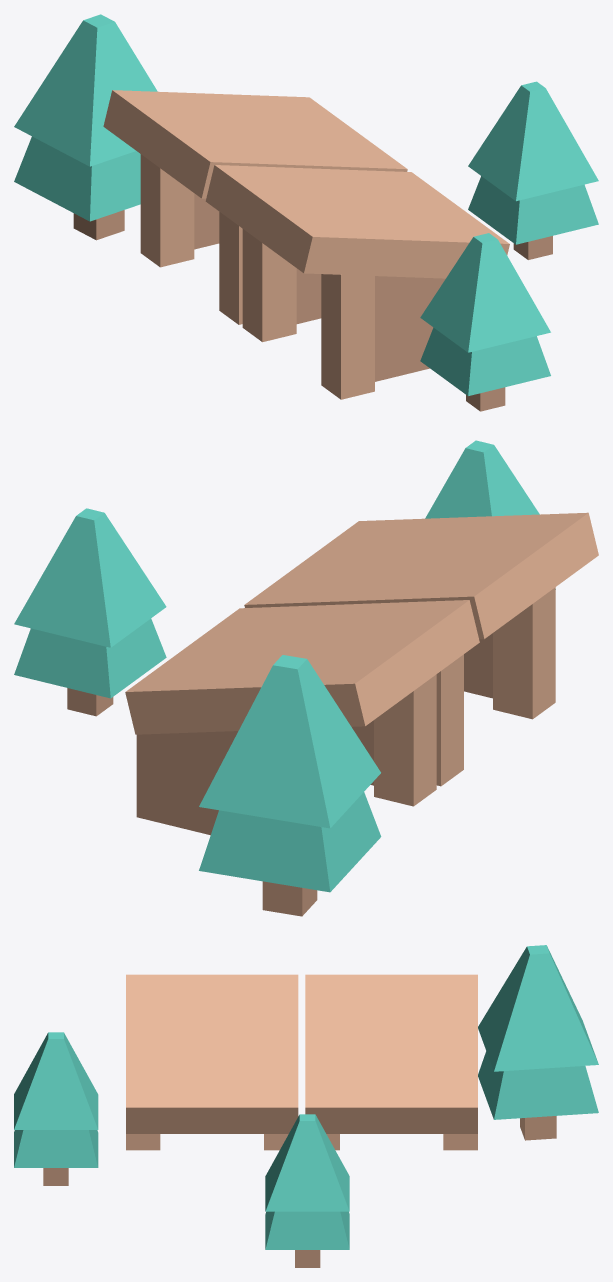
The model's file is Storagelvl2.fbx.
The picture shows the model from 3 angles, top to bottom: view 1: azimuth 30°, elevation 25°; view 2: azimuth 150°, elevation 25°; view 3: azimuth 270°, elevation 25°; orthographic projection. The views are drawn at different scales.
Parts seen in each view (by area): view 1: Storage3, Storage4, Tree1, Tree2, Tree3; view 2: Storage4, Storage3, Tree1, Tree3, Tree2; view 3: Storage3, Storage4, Tree1, Tree3, Tree2.
Part boxes in pixels (x1,y1,x2,y2): Storage3: (205,165,509,399); Storage4: (103,90,407,324); Tree1: (14,14,157,240); Tree2: (420,233,550,411); Tree3: (468,81,598,259); Storage4: (125,600,479,835); Storage3: (244,512,598,786); Tree1: (199,655,381,916); Tree3: (14,508,166,716); Tree2: (425,440,555,589); Storage3: (126,974,298,1150); Storage4: (305,974,477,1150); Tree1: (478,945,598,1140); Tree3: (265,1114,349,1267); Tree2: (14,1032,98,1185).
Size of the model in its own units: 59.37 by 29.26 by 84.76.
